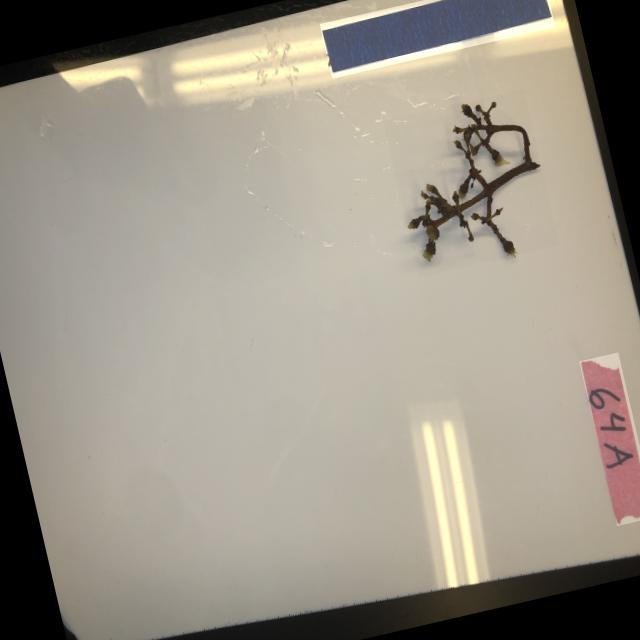index: (577, 352, 640, 526)
measure_label: (318, 0, 554, 78)
rachis_cluster: (382, 88, 558, 276)
